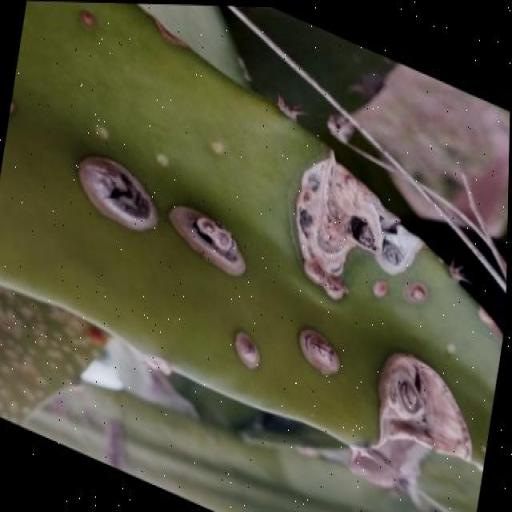stemcanker: (409, 300, 435, 321), (347, 301, 371, 323), (127, 268, 147, 293), (300, 335, 319, 359), (441, 400, 460, 424), (53, 244, 71, 263), (505, 287, 512, 311)
